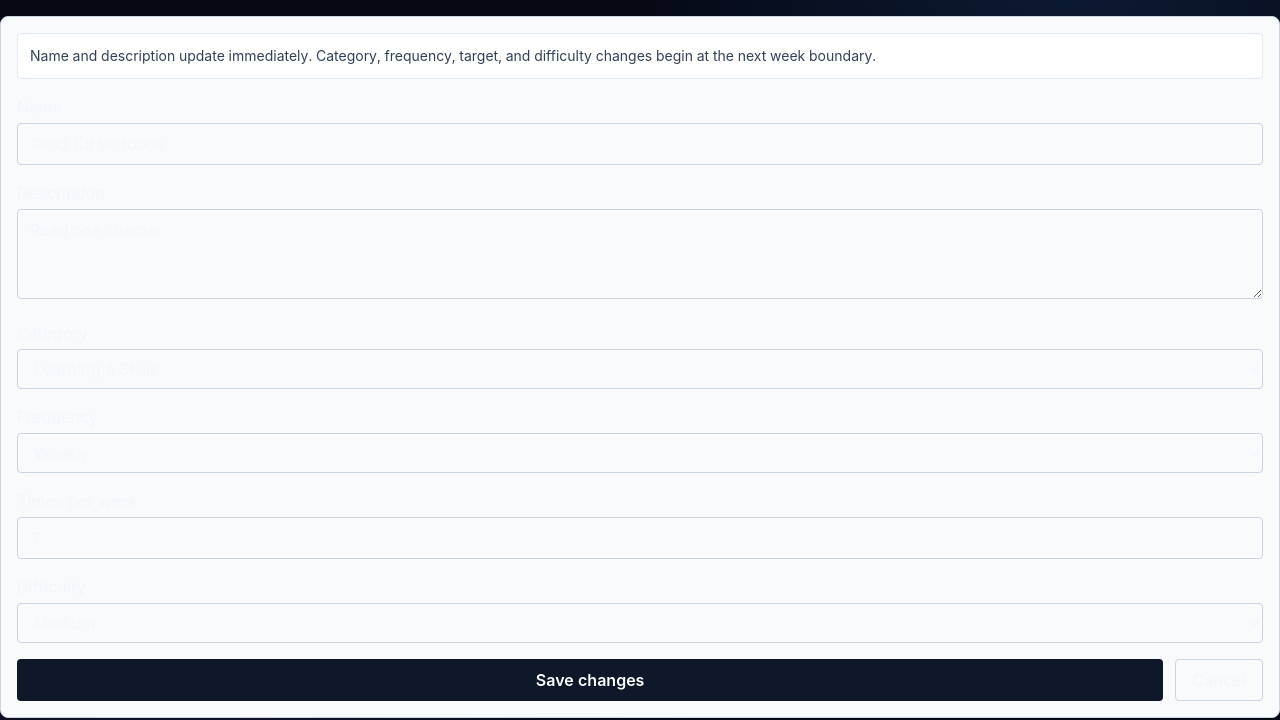
Test: HabitEditForm › shows the pending state while the update is running
Click the button "Save changes": (590, 680) [17,659,1163,701]
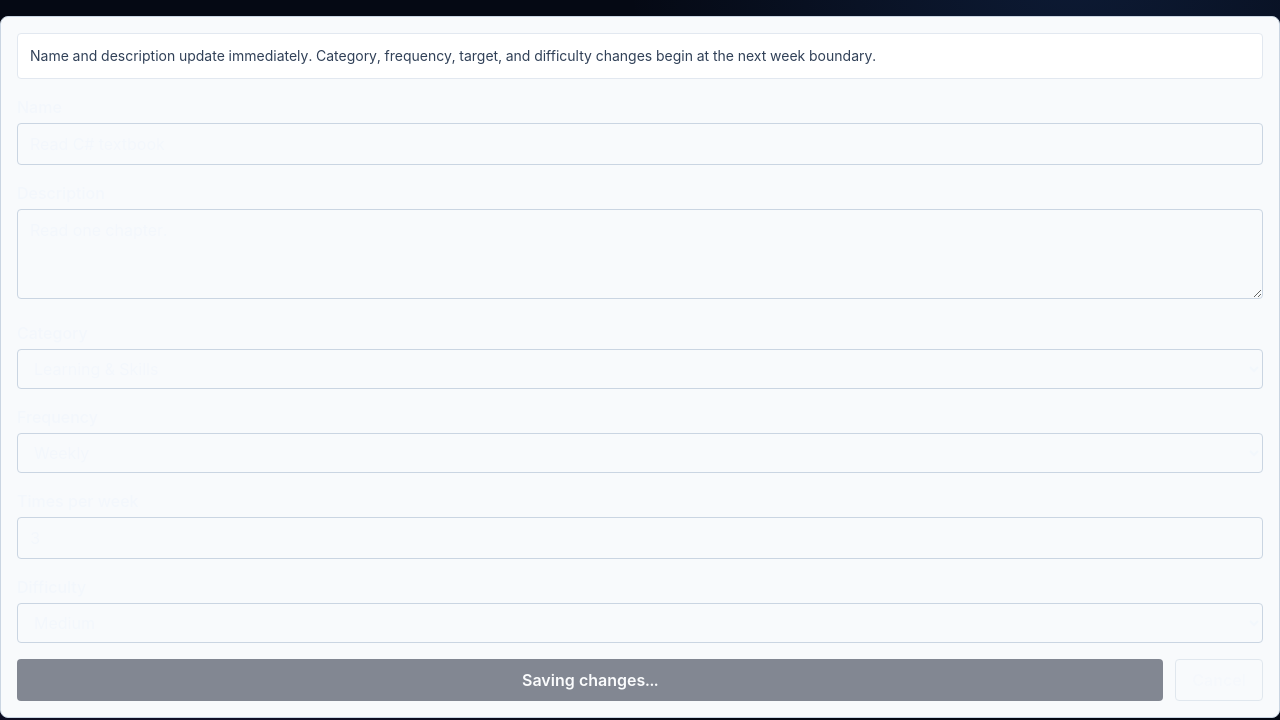
Expected: the button "Saving changes..." is disabled, [17,659,1163,701]
